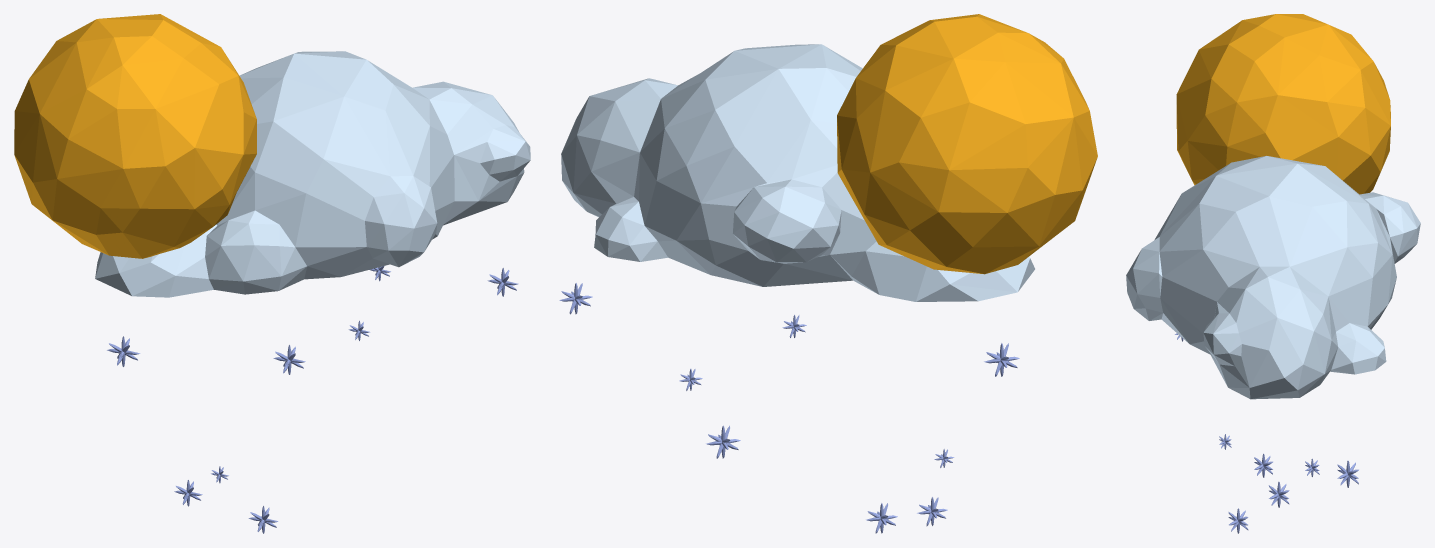
File: Snow.gltf
3 views of the same model, side by side, from view 1: azimuth 30°, elevation 25°; view 2: azimuth 150°, elevation 25°; view 3: azimuth 270°, elevation 25° (orthographic). The views are drawn at different scales.
Parts seen in each view (by area): view 1: Icosphere.005, Icosphere.001; view 2: Icosphere.005, Icosphere.001; view 3: Icosphere.005, Icosphere.001.
Boxes of the visible parts, box(x1,y1,x2,y2) form: Icosphere.005: box(95, 51, 530, 297); Icosphere.001: box(14, 14, 256, 258); Icosphere.005: box(561, 44, 1034, 301); Icosphere.001: box(837, 14, 1097, 274); Icosphere.005: box(1126, 156, 1420, 399); Icosphere.001: box(1176, 14, 1390, 194).
Size of the model in its own units: 3.85 by 3.93 by 2.26.
